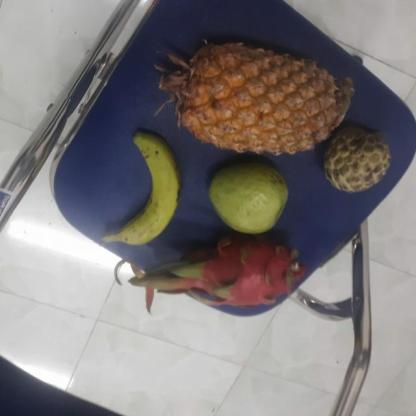annona: (319, 124, 391, 192)
banana: (106, 135, 181, 243)
guava: (206, 162, 291, 238)
pineapple: (169, 44, 344, 156)
pitaya: (182, 230, 299, 315)
